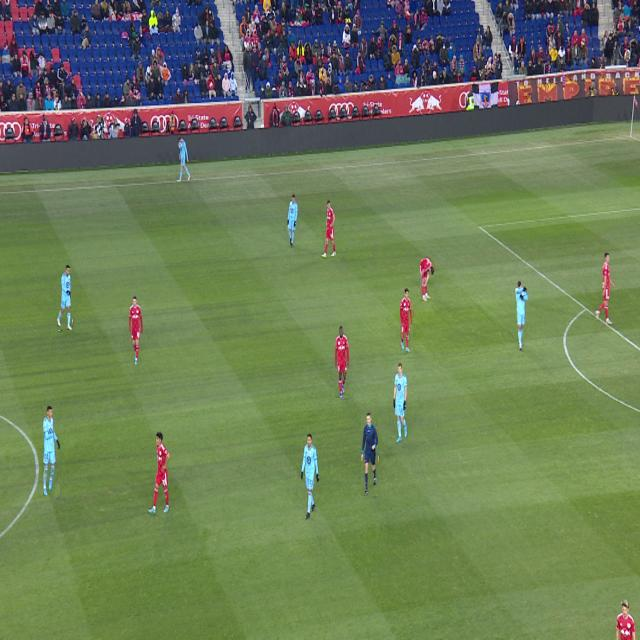player: (148, 432, 170, 514), (43, 406, 60, 496), (301, 434, 319, 519), (595, 253, 614, 324), (393, 362, 408, 443), (129, 296, 143, 365), (58, 265, 72, 330), (515, 280, 528, 349), (336, 326, 348, 398), (321, 201, 336, 258), (400, 289, 413, 353), (616, 600, 636, 640), (176, 136, 191, 182), (420, 258, 434, 301), (287, 195, 298, 248)
referee: (362, 413, 378, 496)
